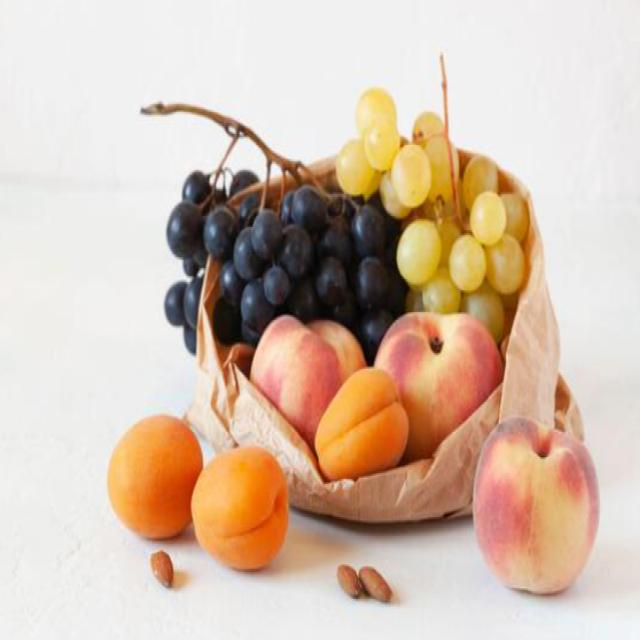paper: (154, 94, 386, 330), (332, 52, 539, 314), (481, 412, 610, 606), (375, 292, 517, 451), (104, 396, 200, 548), (178, 445, 288, 572), (314, 365, 420, 495)
